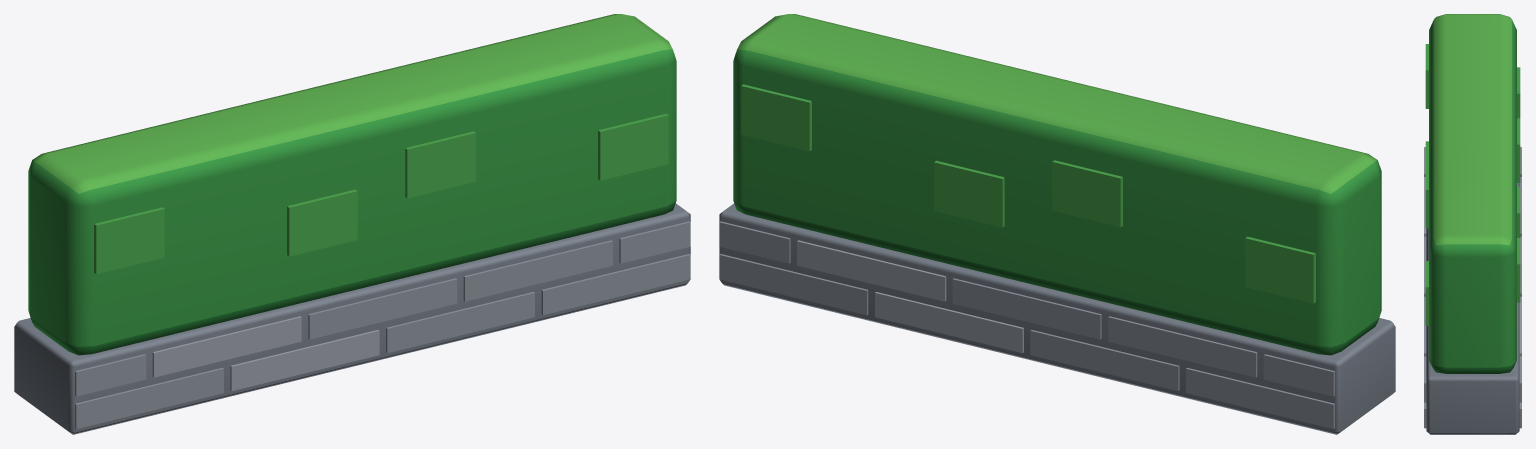
The model's file is mint-border.glb.
The picture shows the model from 3 angles, left to right: view 1: azimuth 30°, elevation 25°; view 2: azimuth 150°, elevation 25°; view 3: azimuth 270°, elevation 25°; orthographic projection. The views are drawn at different scales.
Parts seen in each view (by area): view 1: mint-border; view 2: mint-border; view 3: mint-border.
Boxes of the visible parts, x1,y1,x2,y2 form: mint-border: (14, 14, 690, 434); mint-border: (719, 14, 1395, 434); mint-border: (1424, 14, 1521, 434).
Bounding box in the file's own units: 4 × 1.5 × 0.69.
